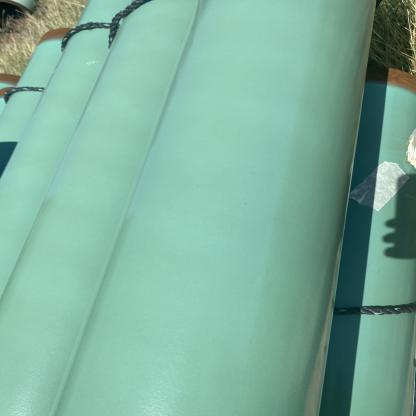clean: (185, 110, 277, 280)
